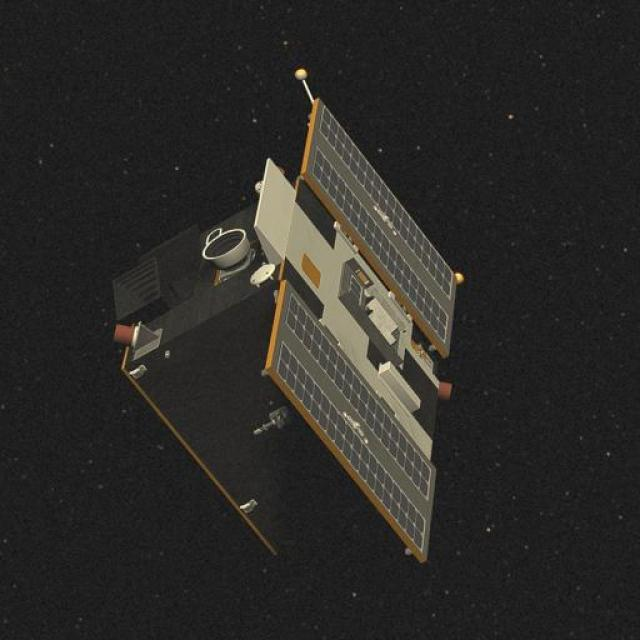proba_2: (113, 61, 455, 584)
